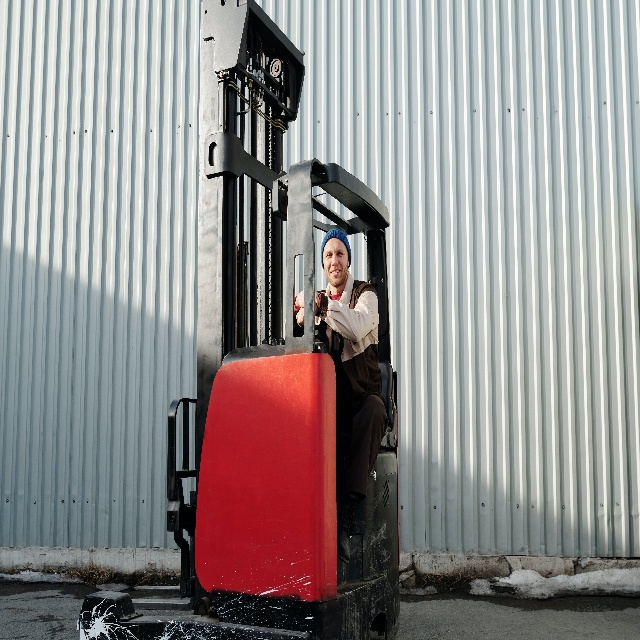Sin_guantes: (295, 290, 320, 313), (296, 305, 305, 328)
